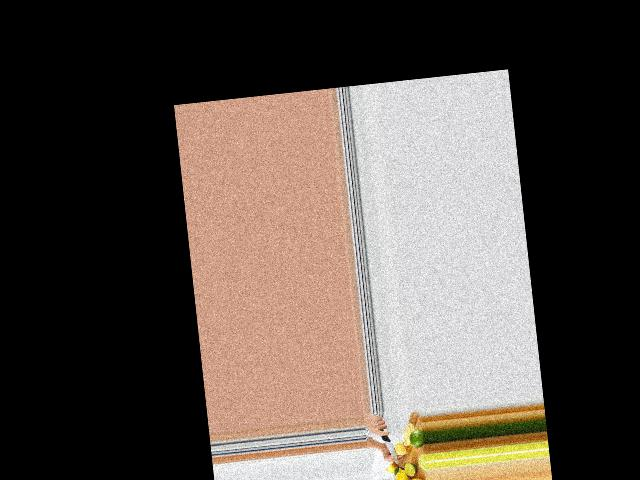lemon: (405, 475, 427, 480)
